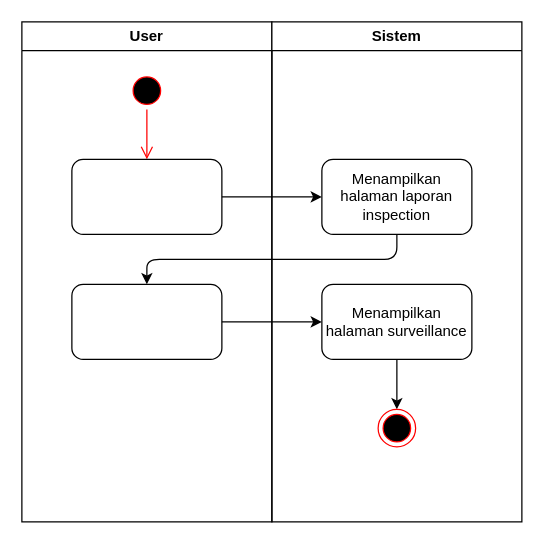
The diagram is 544 pixels wide and 544 high, and some of its shapes have lost their labels. The shapes that lost their labels are listed below. From the top down, each one's centre as x and y in pixels, then its label:
(x=146, y=196): Pilih fitur laporan inspection
(x=146, y=321): Pilih detail (icon settings) pada salah satu data laporan inspection
